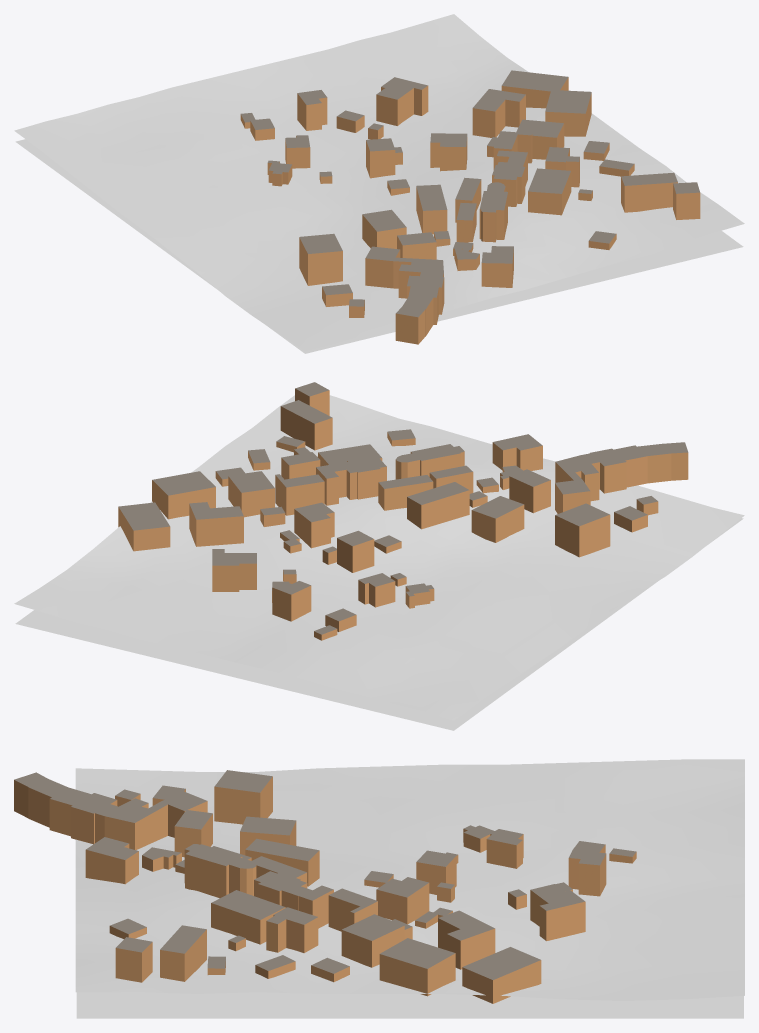
The model's file is Villars.glb.
3 renders of one model, top to bottom at view 1: azimuth 30°, elevation 25°; view 2: azimuth 150°, elevation 25°; view 3: azimuth 270°, elevation 25°, orthographic. The views are drawn at different scales.
Parts seen in each view (by area): view 1: Terrain, Terrain.001_envelope, element.019, element.042, element.002, element, element.022, element.015, element.031, element.011, Paroisse Saint-Nicolas, element.021 (+16 smaller); view 2: Terrain, Terrain.001_envelope, element.019, element.021, element.002, element.015, element.008, element.042, element.011, element.003, element.022, element (+16 smaller); view 3: Terrain, Terrain.001_envelope, element.019, element.015, element.011, Paroisse Saint-Nicolas, element.002, element, element.031, element.042, element.021, element.013 (+18 smaller).
Boxes of the visible parts, x1,y1,x2,y2 form: Terrain: (14,14,744,351); Terrain.001_envelope: (15,139,743,353); element.019: (365,246,444,344); element.042: (472,89,525,137); element.002: (299,233,342,285); element: (376,77,428,125); element.022: (621,172,677,212); element.015: (545,90,591,136); element.031: (528,168,571,215); element.011: (501,70,568,108); Paroisse Saint-Nicolas: (479,182,507,242); element.021: (492,150,527,206); Terrain: (14,395,744,720); Terrain.001_envelope: (15,518,743,730); element.019: (555,442,688,513); element.021: (316,457,386,505); element.002: (555,503,610,557); element.015: (152,471,215,519); element.008: (407,482,469,529); element.042: (189,502,243,546); element.011: (118,502,170,551); element.003: (471,496,524,542); element.022: (280,400,332,450); element: (212,549,256,591); Terrain: (75,759,744,1000); Terrain.001_envelope: (76,992,743,1018); element.019: (14,772,207,849); element.015: (379,938,455,996); element.011: (462,947,541,1003); Paroisse Saint-Nicolas: (184,844,256,898); element.002: (214,770,272,824); element: (530,884,585,941); element.031: (211,890,285,944); element.042: (438,910,495,969); element.021: (254,871,333,928); element.013: (341,914,404,967).
Size of the model in its own units: 301 by 31.69 by 371.
